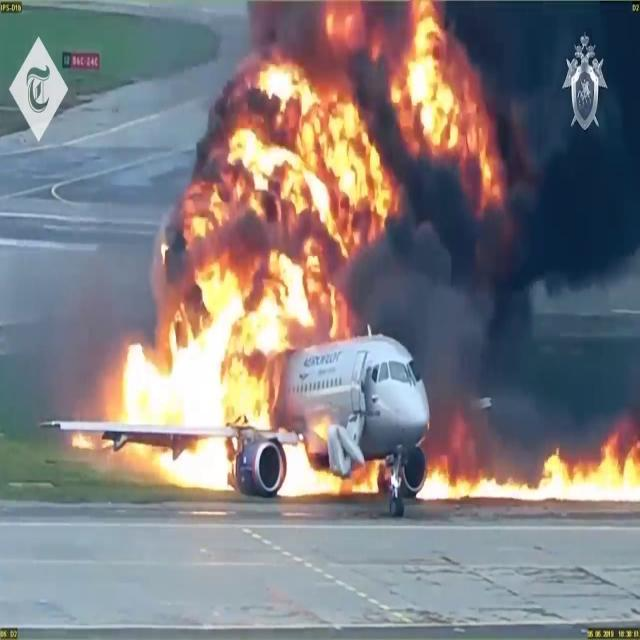Fire: (92, 3, 636, 504), (100, 12, 432, 502), (424, 413, 640, 503)
